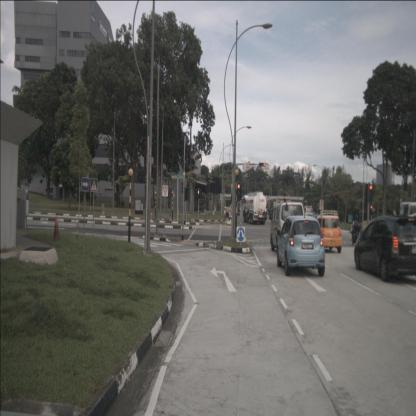cone: (52, 216, 61, 243)
